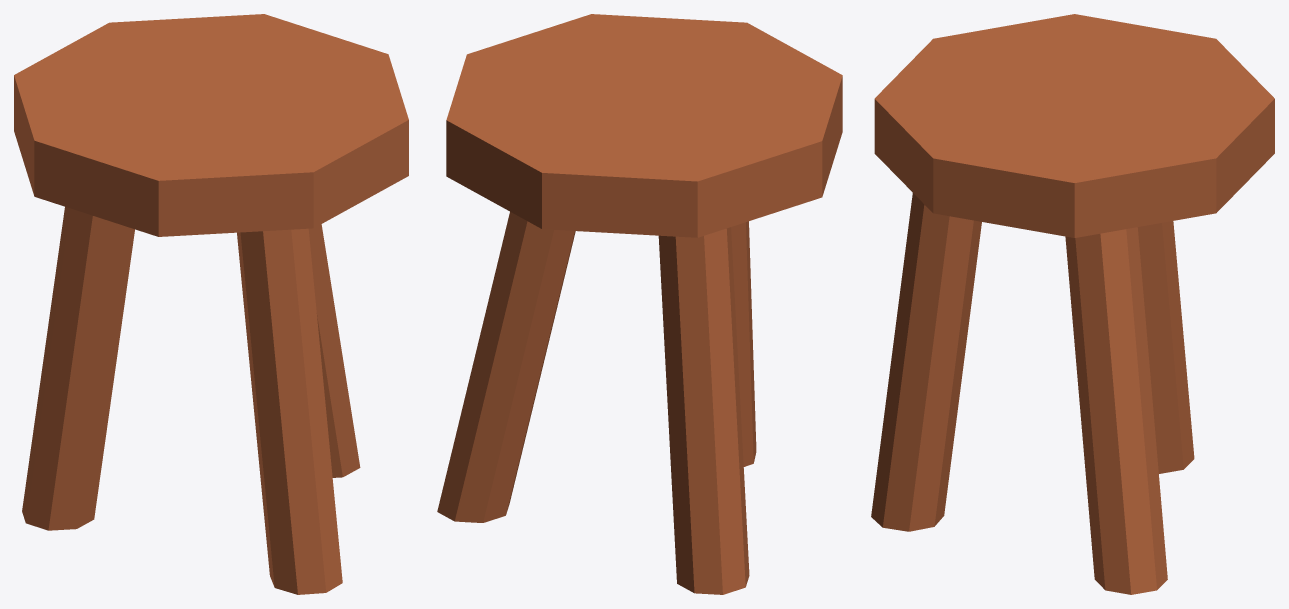
Rendered from Stool.fbx.
The picture shows the model from 3 angles, left to right: view 1: azimuth 30°, elevation 25°; view 2: azimuth 150°, elevation 25°; view 3: azimuth 270°, elevation 25°; orthographic projection. The views are drawn at different scales.
Parts seen in each view (by area): view 1: Cylinder.001; view 2: Cylinder.001; view 3: Cylinder.001.
Boxes of the visible parts, x1,y1,x2,y2 form: Cylinder.001: (14, 14, 408, 594); Cylinder.001: (437, 14, 842, 594); Cylinder.001: (871, 14, 1274, 594).
Size of the model in its own units: 155 by 177 by 157.
